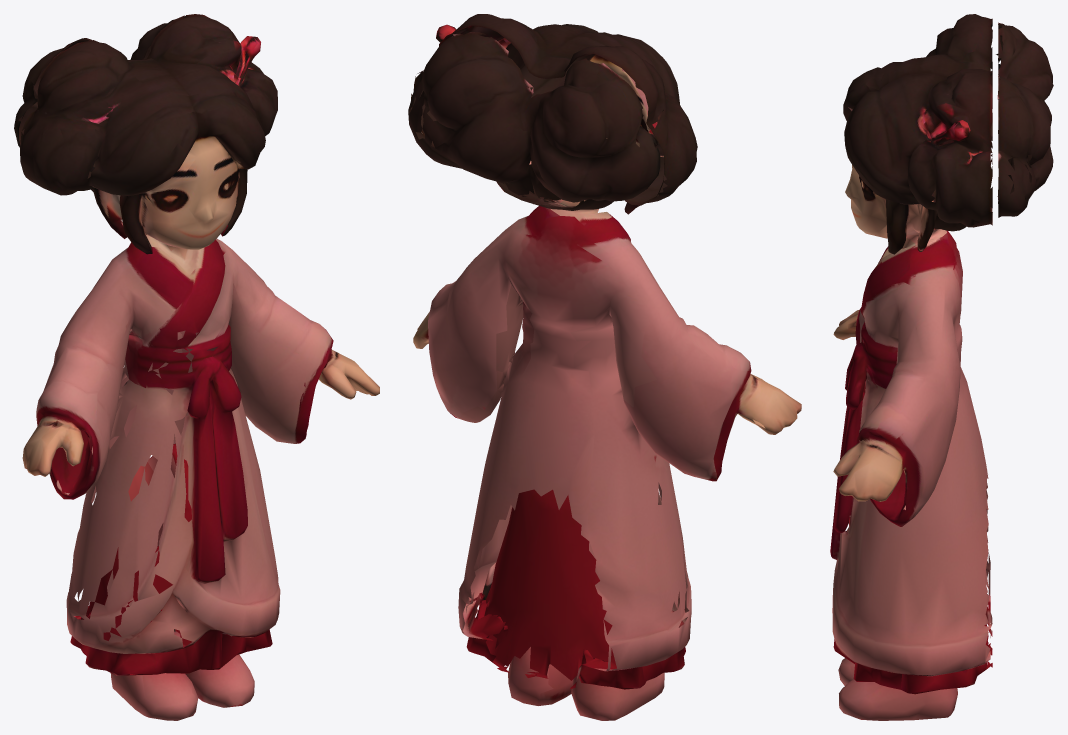
File: woman_b.fbx
The picture shows the model from 3 angles, left to right: view 1: azimuth 30°, elevation 25°; view 2: azimuth 150°, elevation 25°; view 3: azimuth 270°, elevation 25°; orthographic projection. The views are drawn at different scales.
Visible parts, largest first — view 1: 1_output_1794125508393760_gGUqDkBKn.004; view 2: 1_output_1794125508393760_gGUqDkBKn.004; view 3: 1_output_1794125508393760_gGUqDkBKn.004.
Boxes of the visible parts, <box> form: 1_output_1794125508393760_gGUqDkBKn.004: <box>14,14,379,720</box>; 1_output_1794125508393760_gGUqDkBKn.004: <box>408,14,801,720</box>; 1_output_1794125508393760_gGUqDkBKn.004: <box>830,14,1053,720</box>.
Bounding box in the file's own units: 0.8888 × 1.55 × 0.4864.
Materials: 1 (1 with a texture image).
